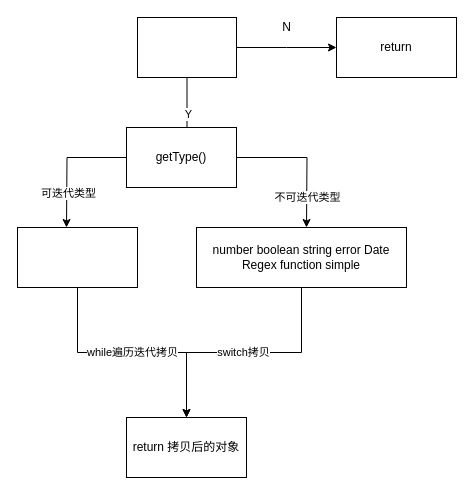
Some shapes in this 474 by 495 pixel diagram are drawn without their labels. Here are the shapes that lost their labels. From the top down, the box of each, then its label:
(136, 16, 236, 78): isObject()
(16, 226, 138, 288): array set map object
